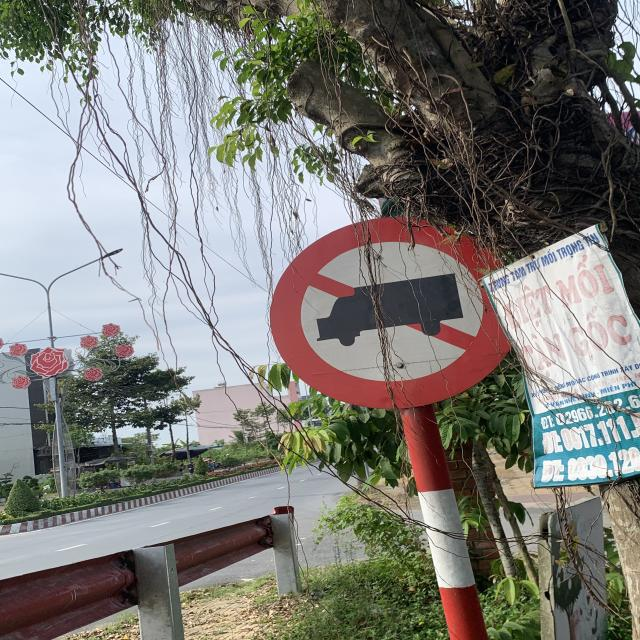Cam_Xe_Tai: (267, 215, 514, 415)
